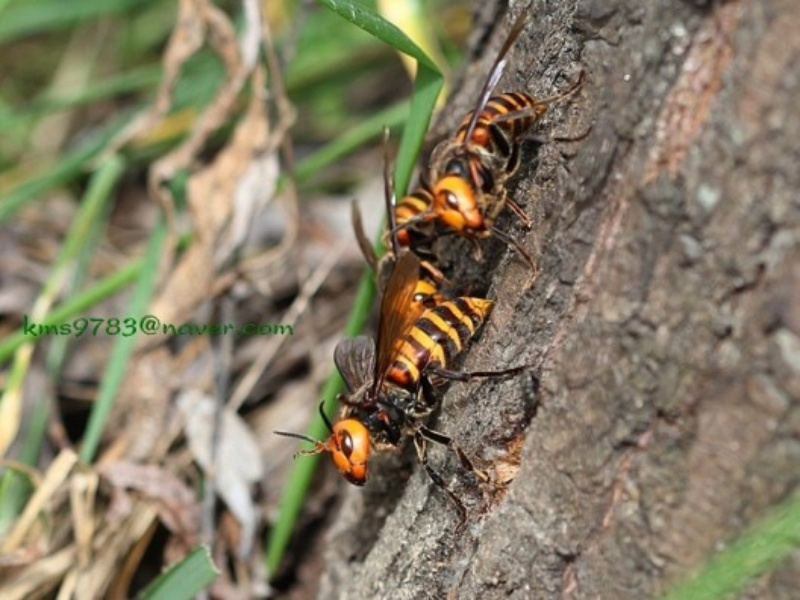asian_giant_hornet: (295, 252, 497, 504), (392, 12, 586, 231), (324, 130, 468, 312)
